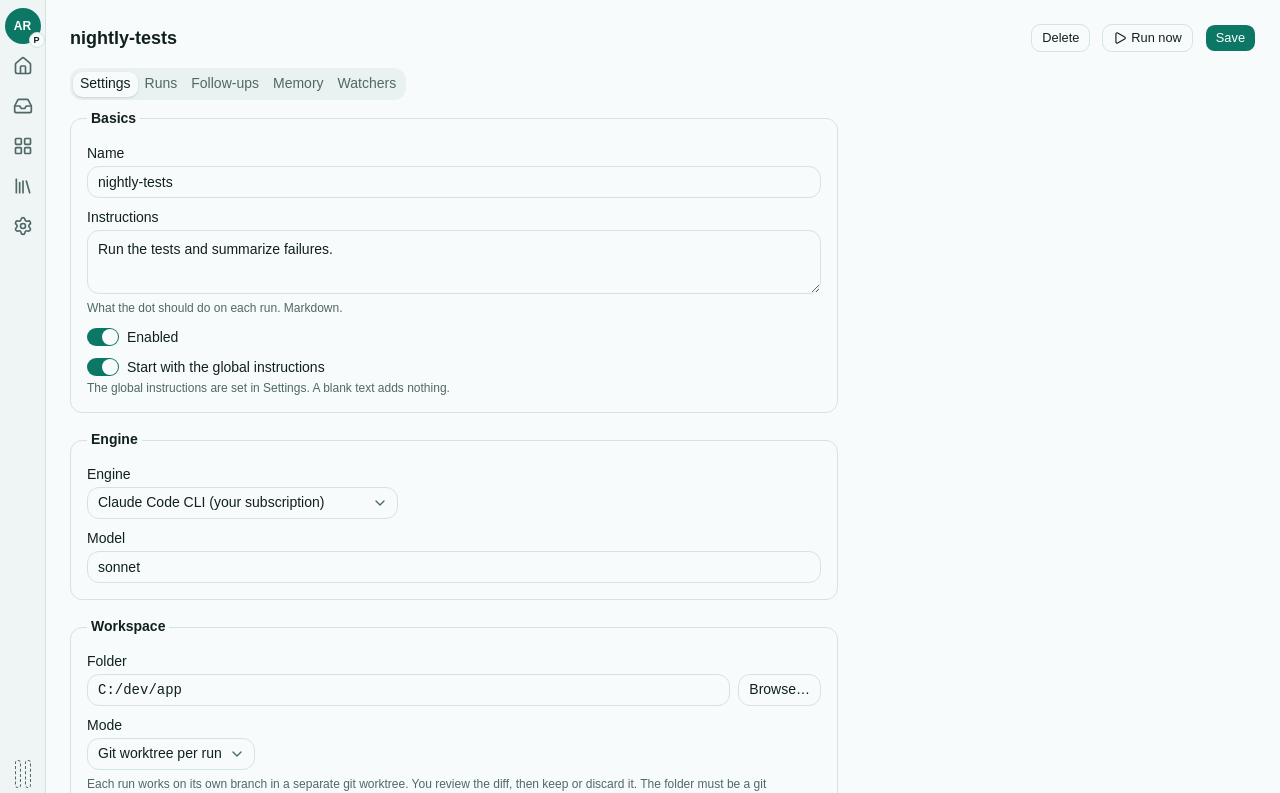
Scenario: follow-ups › lists a dot's pending follow-ups in its editor and cancels one
Click the tab "Follow-ups" at {"x": 225, "y": 84}, box 184,72 -> 266,96
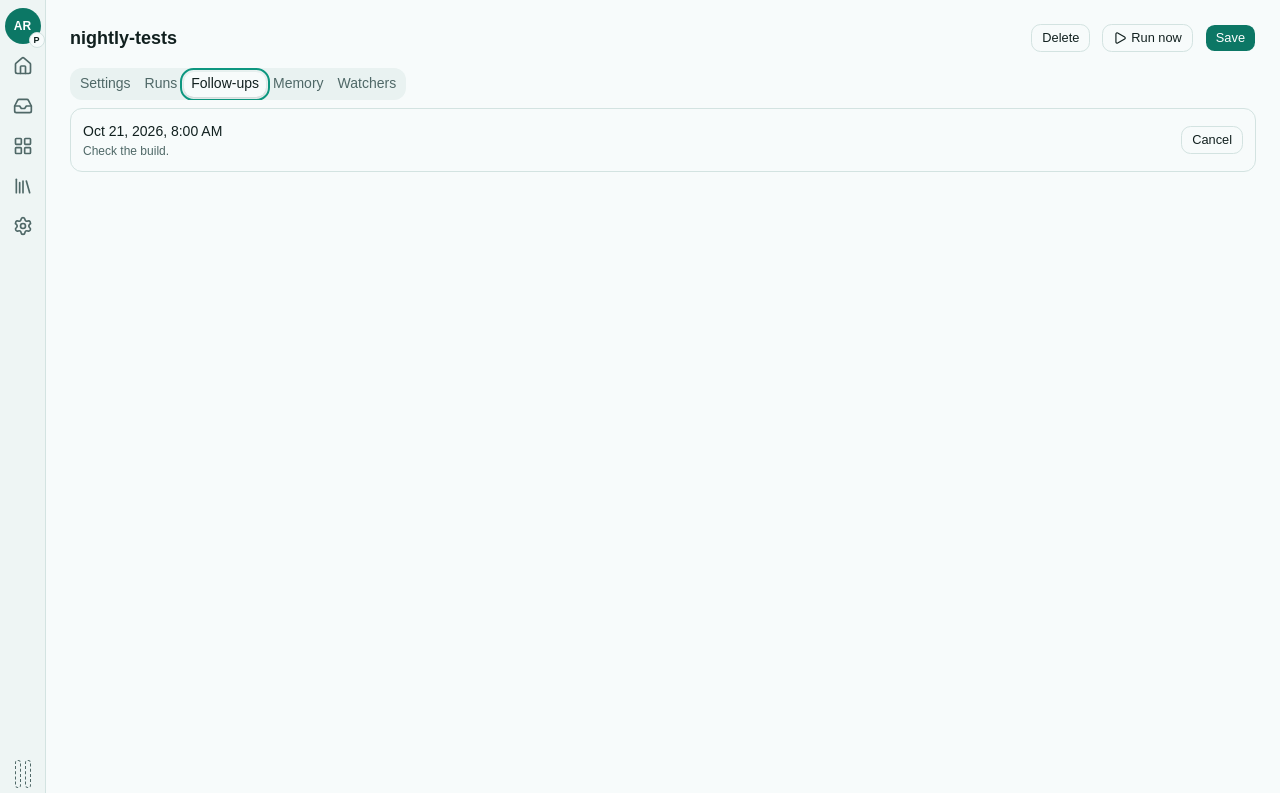
Click the button "Cancel" at {"x": 1212, "y": 140}, box 1181,126 -> 1243,154
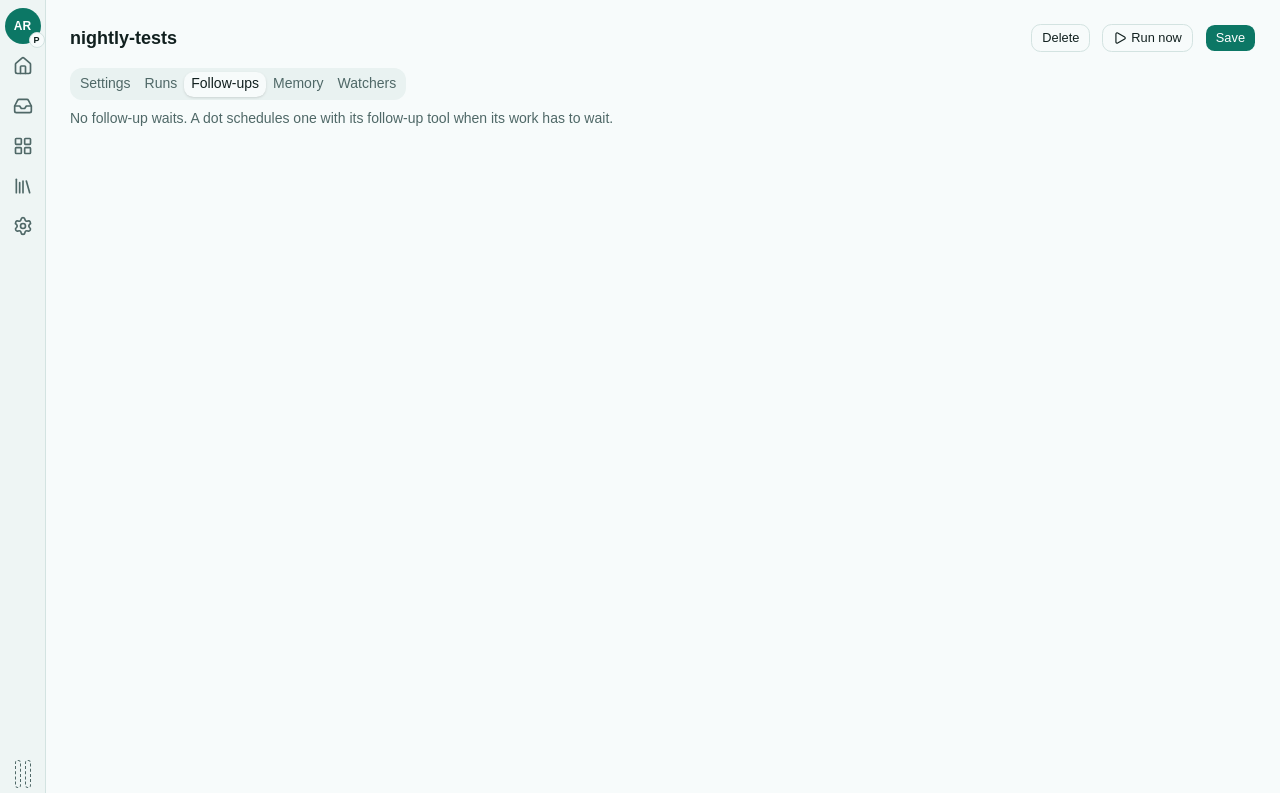
expect the text "No follow-up waits" is shown: met, box 70,110 -> 613,126
